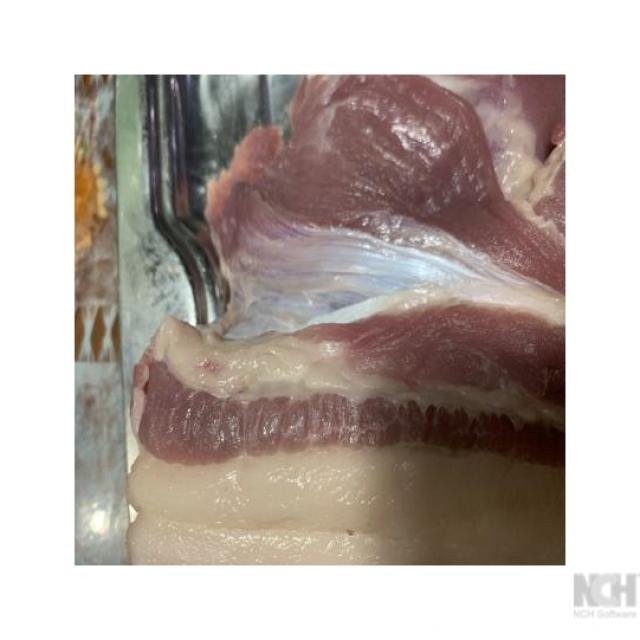rotten meat: (49, 53, 579, 575)
